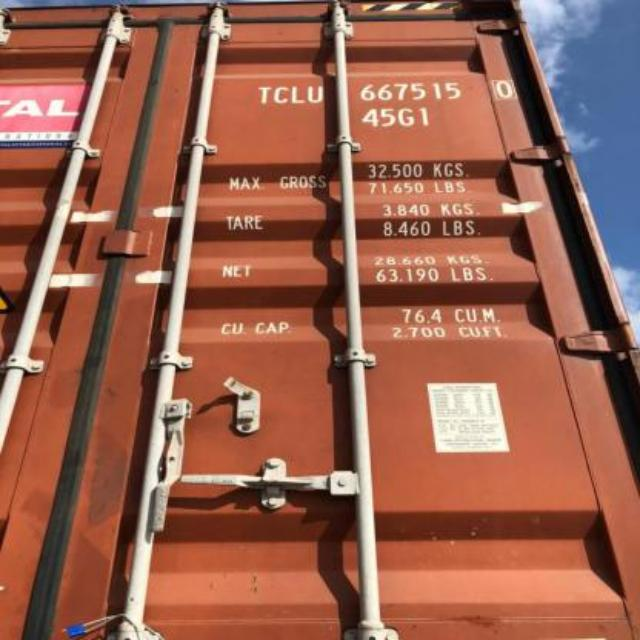0: (490, 76, 518, 100)
1: (430, 75, 442, 102)
5: (408, 76, 428, 104), (444, 78, 460, 100)
6: (376, 75, 394, 105), (358, 79, 376, 103)
7: (396, 79, 408, 105)
C: (274, 82, 288, 108)
L: (289, 80, 305, 108)
T: (254, 82, 270, 108)
U: (305, 77, 323, 109)
